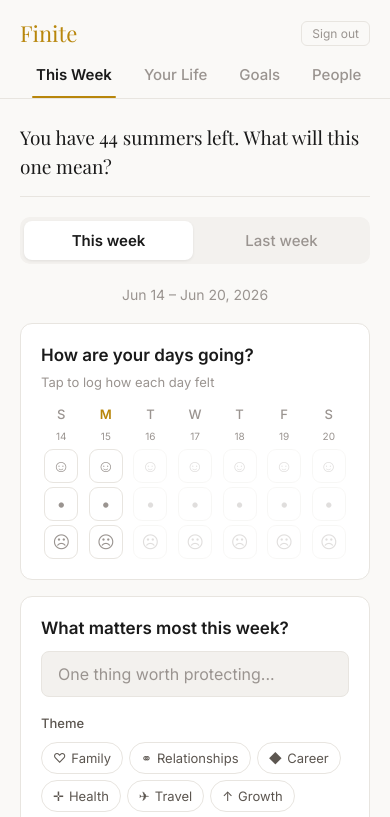
Test: App — navigation › switches to People tab
This screenshot has width=390, height=817.
Expected: the text "Finite" is shown, [20, 16, 78, 51]
Click the button "People".
click(337, 75)  # box [296, 51, 377, 98]
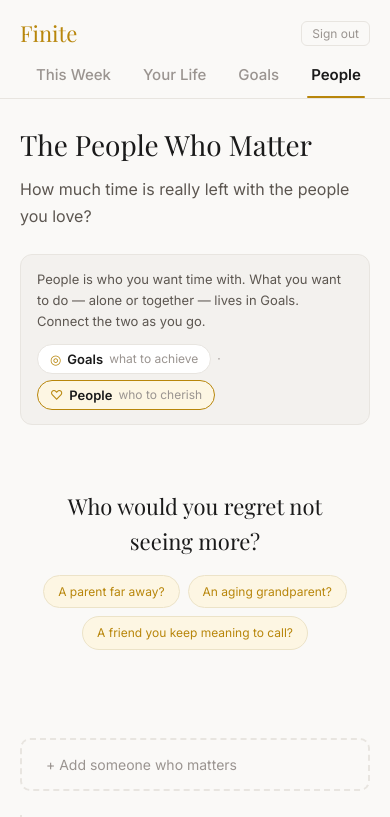
Expected: the heading "The People Who Matter" is shown, [20, 126, 312, 163]
